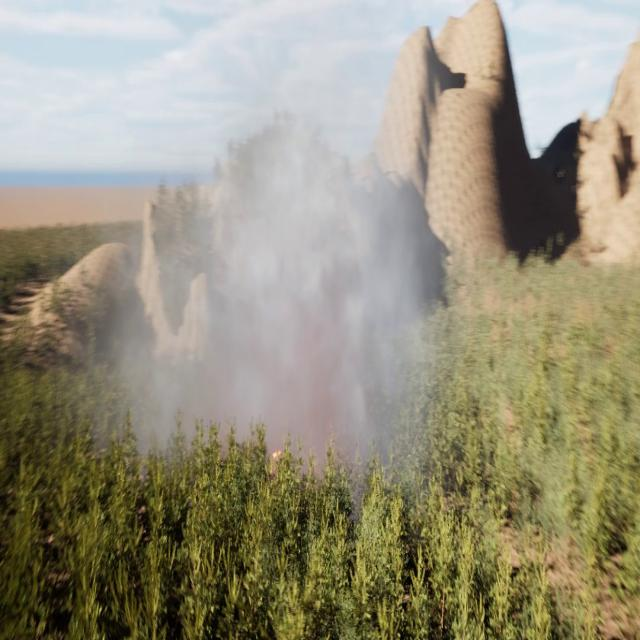smoke: (68, 36, 440, 484)
